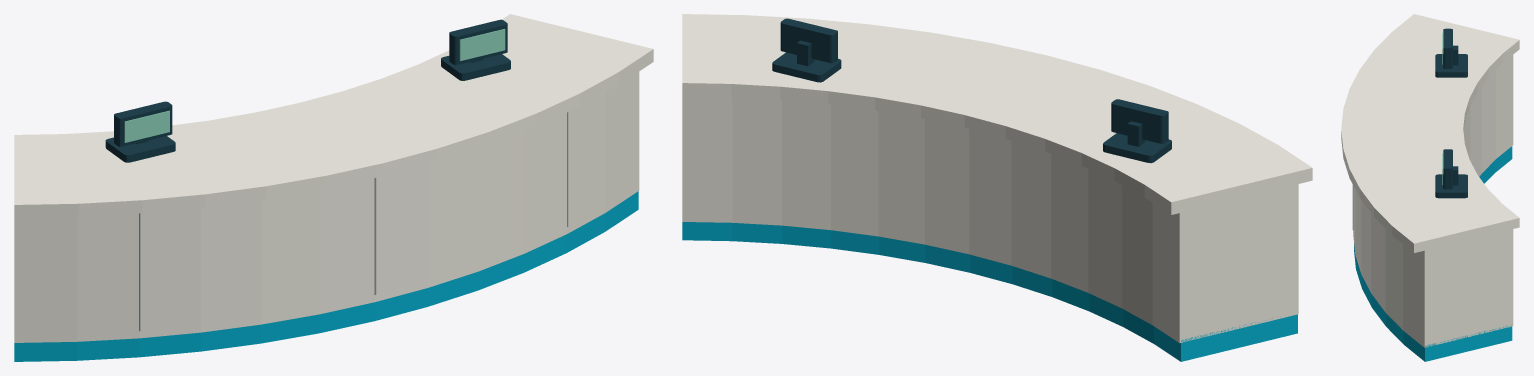
The model's file is reception_counter.glb.
The picture shows the model from 3 angles, left to right: view 1: azimuth 30°, elevation 25°; view 2: azimuth 150°, elevation 25°; view 3: azimuth 270°, elevation 25°; orthographic projection. The views are drawn at different scales.
Parts seen in each view (by area): view 1: Aero_reception_counter; view 2: Aero_reception_counter; view 3: Aero_reception_counter.
Part boxes in pixels (<box>): Aero_reception_counter: <box>14,14,653,361</box>; Aero_reception_counter: <box>682,14,1312,361</box>; Aero_reception_counter: <box>1341,14,1519,361</box>.
Bounding box in the file's own units: 4.5 × 1.38 × 1.48.
5 materials, 5 textured.
